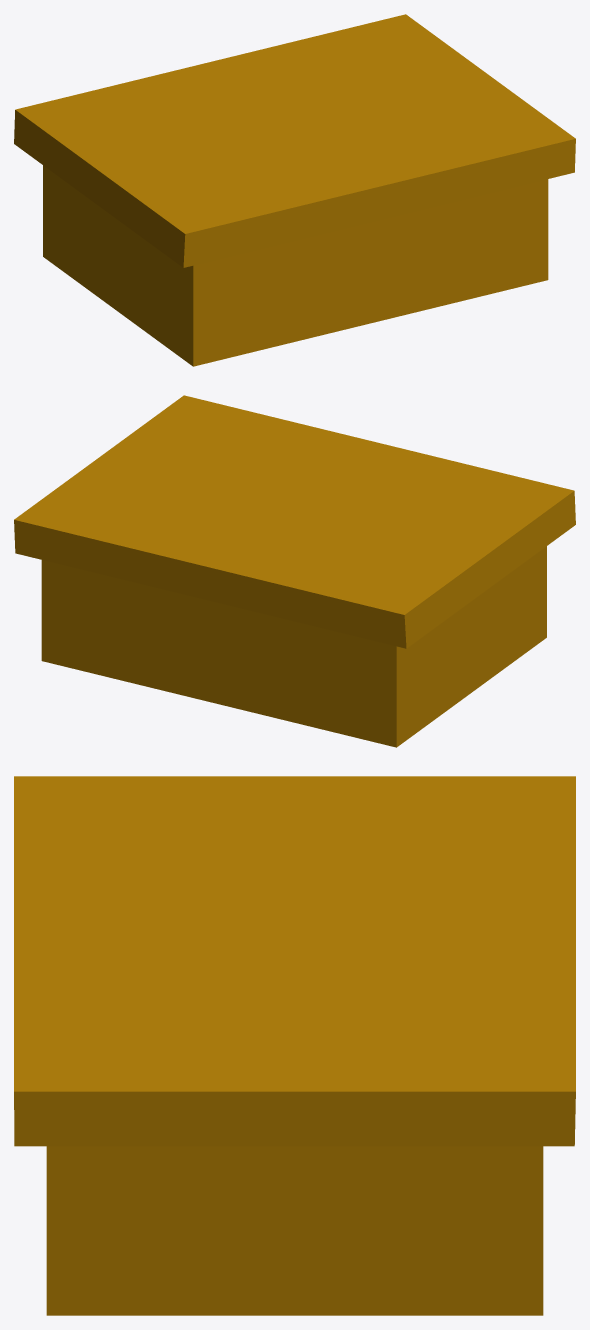
File: Caja.fbx
3 renders of one model, top to bottom at view 1: azimuth 30°, elevation 25°; view 2: azimuth 150°, elevation 25°; view 3: azimuth 270°, elevation 25°, orthographic. The views are drawn at different scales.
Visible parts, largest first — view 1: pCube1; view 2: pCube1; view 3: pCube1.
Part boxes in pixels (x1,y1,x2,y2): pCube1: (14,14,575,366); pCube1: (14,395,575,747); pCube1: (14,776,575,1315).
Bounding box in the file's own units: 7.92 × 2.78 × 5.95.
